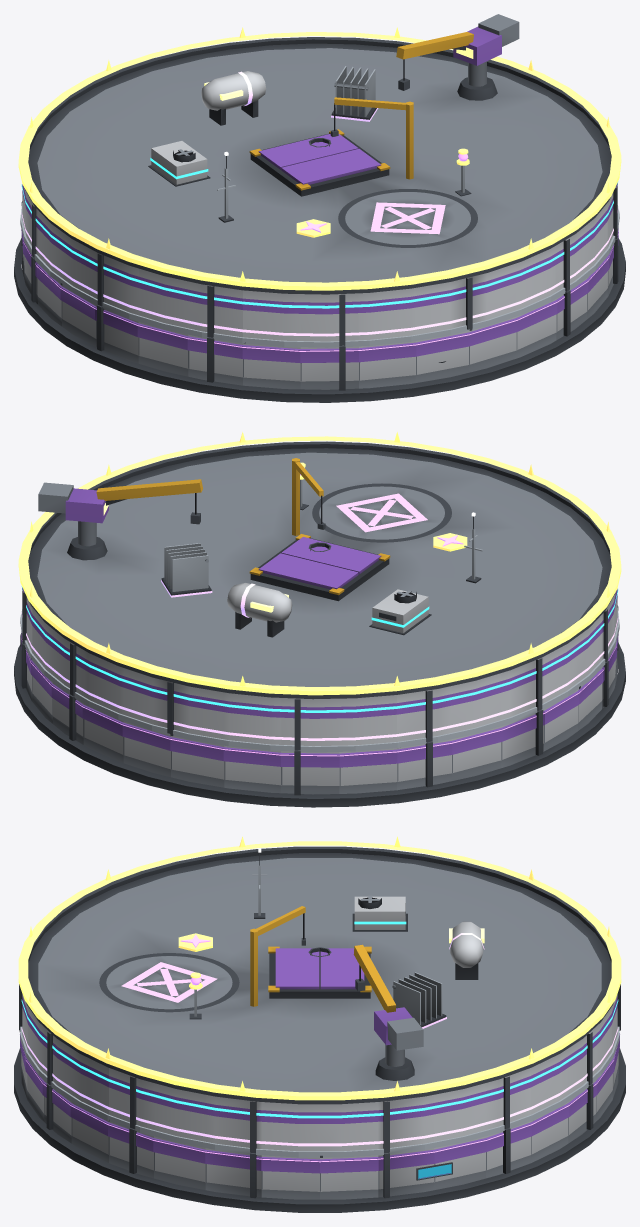
The model's file is storehouse_m.glb.
3 renders of one model, top to bottom at view 1: azimuth 30°, elevation 25°; view 2: azimuth 150°, elevation 25°; view 3: azimuth 270°, elevation 25°, orthographic.
Parts seen in each view (by area): view 1: Roof, L5, Base, L4, Upper_21, Wall_21, Upper_22, Upper_20, Wall_20, Upper_23, Upper_19, Wall_22 (+22 smaller); view 2: Roof, L5, Base, L4, Upper_10, Wall_10, Upper_11, Upper_09, Wall_11, Upper_08, Upper_12, Wall_09 (+22 smaller); view 3: Roof, L5, Base, L4, Upper_00, Upper_31, Wall_00, Wall_31, Upper_01, Upper_30, Wall_30, Upper_02 (+24 smaller).
Part boxes in pixels (<box>): Roof: <box>24,14,611,294</box>; L5: <box>18,27,621,290</box>; Base: <box>14,238,625,402</box>; L4: <box>201,66,378,125</box>; Upper_21: <box>300,293,358,345</box>; Wall_21: <box>300,345,358,390</box>; Upper_22: <box>358,288,415,340</box>; Upper_20: <box>243,290,300,340</box>; Wall_20: <box>242,342,300,389</box>; Upper_23: <box>415,277,470,334</box>; Upper_19: <box>188,281,242,337</box>; Wall_22: <box>359,341,416,388</box>; Roof: <box>28,441,615,699</box>; L5: <box>18,432,621,695</box>; Base: <box>14,642,625,807</box>; L4: <box>161,543,292,637</box>; Upper_10: <box>281,698,339,750</box>; Wall_10: <box>281,750,339,795</box>; Upper_11: <box>339,695,396,745</box>; Upper_09: <box>224,692,281,744</box>; Wall_11: <box>339,748,397,793</box>; Upper_08: <box>169,682,224,739</box>; Upper_12: <box>397,686,451,742</box>; Wall_09: <box>223,745,280,793</box>; Roof: <box>26,846,613,1104</box>; L5: <box>18,836,621,1100</box>; Base: <box>14,1048,625,1212</box>; L4: <box>392,921,484,1028</box>; Upper_00: <box>320,1102,378,1151</box>; Upper_31: <box>261,1102,319,1151</box>; Wall_00: <box>320,1155,378,1199</box>; Wall_31: <box>261,1155,319,1199</box>; Upper_01: <box>378,1095,433,1153</box>; Upper_30: <box>206,1095,261,1153</box>; Wall_30: <box>205,1148,261,1198</box>; Upper_02: <box>434,1083,485,1141</box>.
Size of the model in its own units: 16.26 by 5.49 by 16.26.
